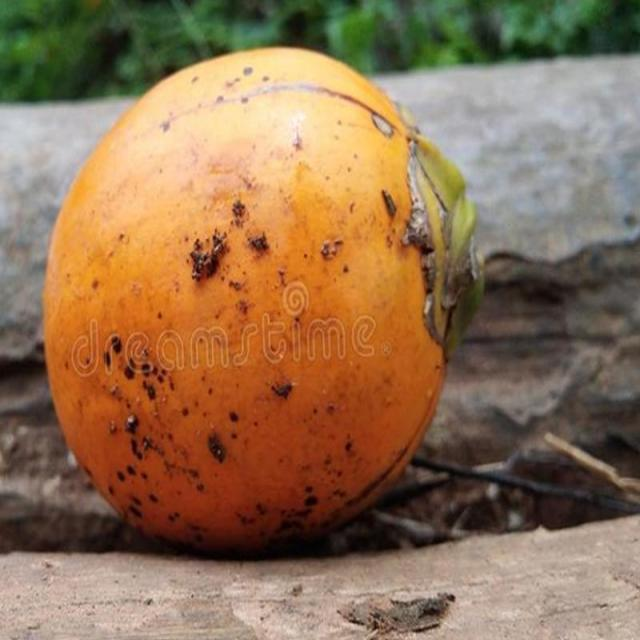good: (42, 47, 482, 561)
